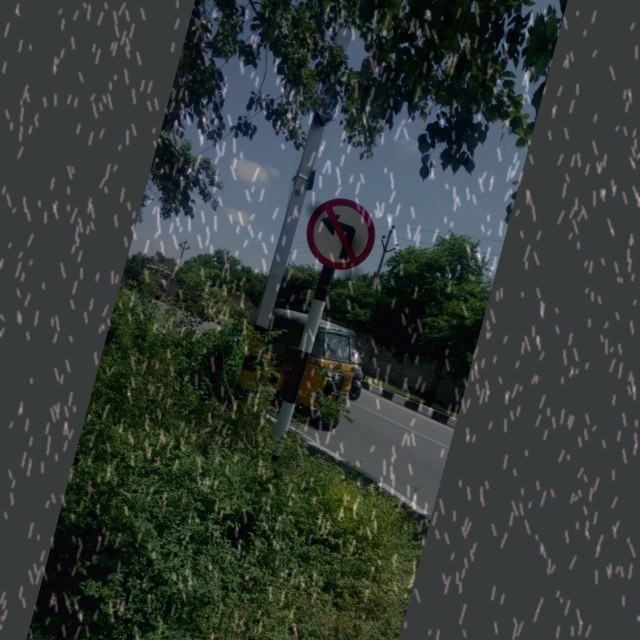Left_Turn_Prohibited: (295, 189, 387, 281)
